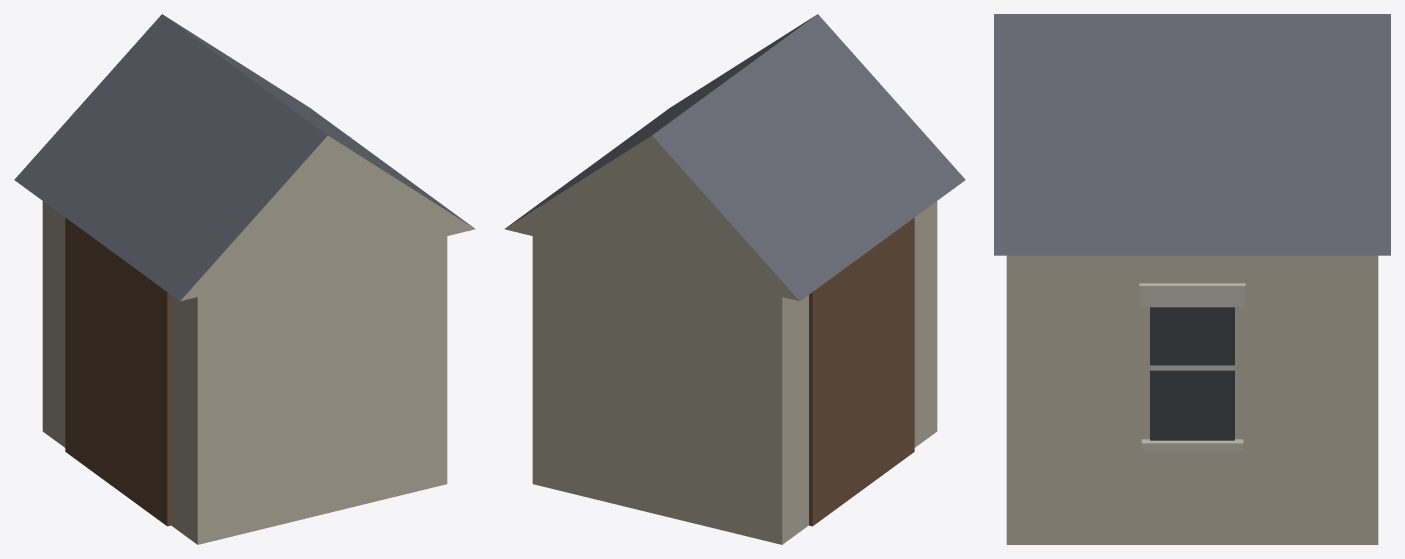
Rendered from first_presbyterian_church_2029_indiana_stable__draft_1904.glb.
The picture shows the model from 3 angles, left to right: view 1: azimuth 30°, elevation 25°; view 2: azimuth 150°, elevation 25°; view 3: azimuth 270°, elevation 25°; orthographic projection. The views are drawn at different scales.
Visible parts, largest first — view 1: first_presbyterian_church_2029_indiana_stable__draft_1904; view 2: first_presbyterian_church_2029_indiana_stable__draft_1904; view 3: first_presbyterian_church_2029_indiana_stable__draft_1904.
Boxes of the visible parts, <box> form: first_presbyterian_church_2029_indiana_stable__draft_1904: <box>14,14,475,544</box>; first_presbyterian_church_2029_indiana_stable__draft_1904: <box>504,14,965,544</box>; first_presbyterian_church_2029_indiana_stable__draft_1904: <box>994,14,1390,544</box>.
Size of the model in its own units: 3.85 by 4.76 by 3.74.
